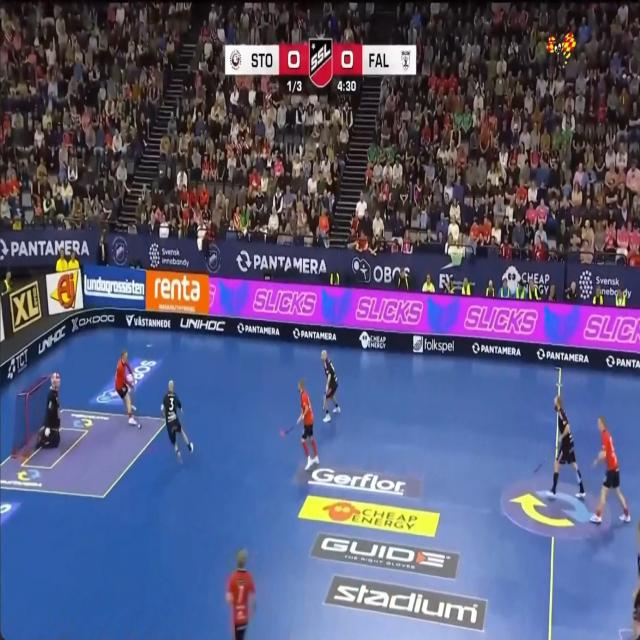player: (590, 417, 630, 523), (549, 395, 585, 499), (161, 380, 193, 461), (226, 550, 255, 639), (115, 350, 141, 428), (297, 379, 318, 470), (36, 372, 60, 447), (321, 350, 339, 422)
stick: (533, 459, 545, 474), (322, 384, 328, 409), (280, 426, 294, 436), (556, 368, 561, 395), (555, 435, 560, 458), (556, 412, 559, 435)
